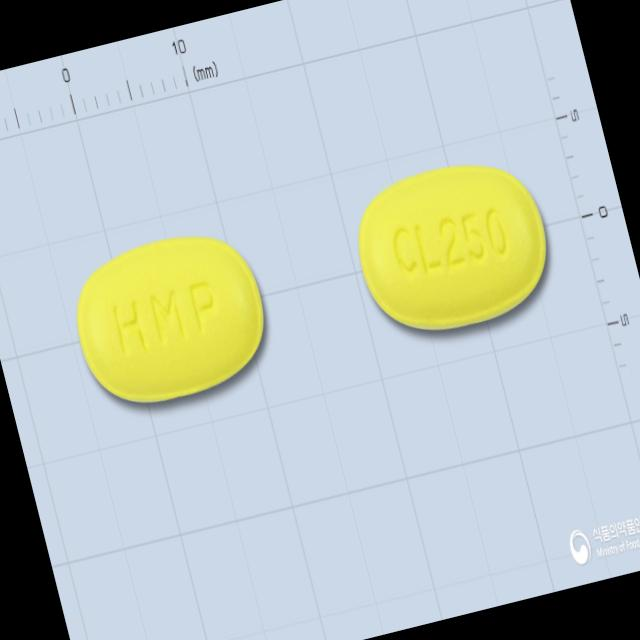Clari - 500mg: (340, 142, 567, 352), (59, 216, 284, 421)
